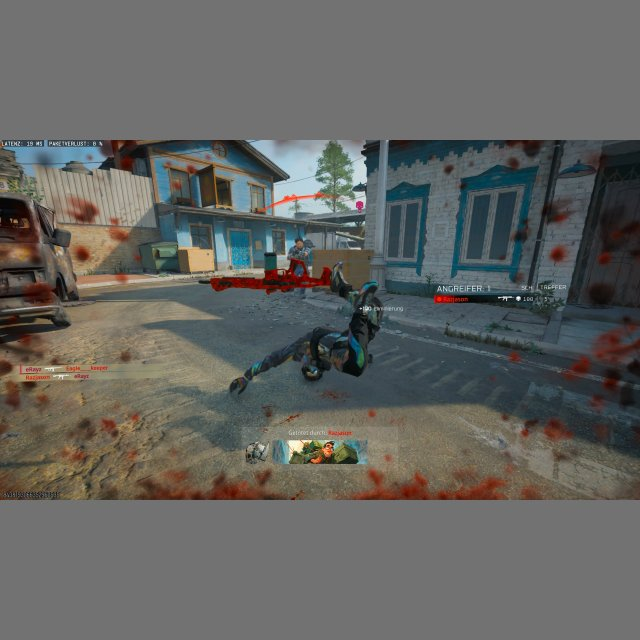head: (301, 357, 327, 380), (295, 237, 304, 248)
player: (286, 237, 312, 278)
